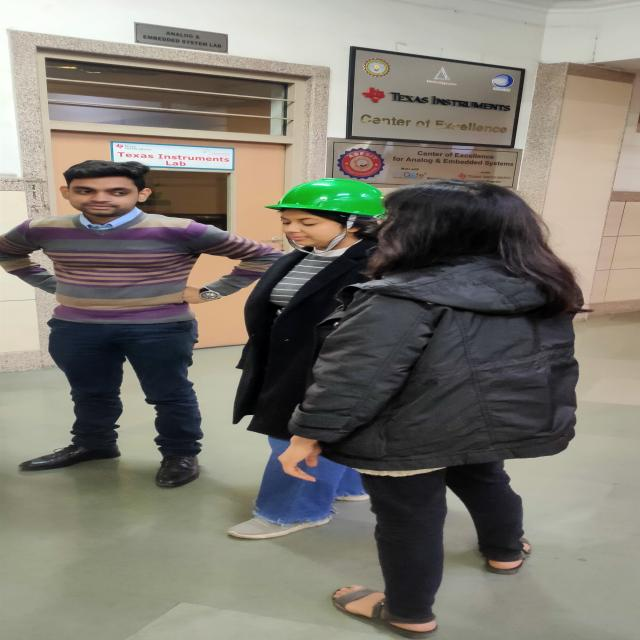no jacket: (225, 178, 381, 540)
unsafe: (278, 183, 575, 639), (0, 161, 210, 489)
